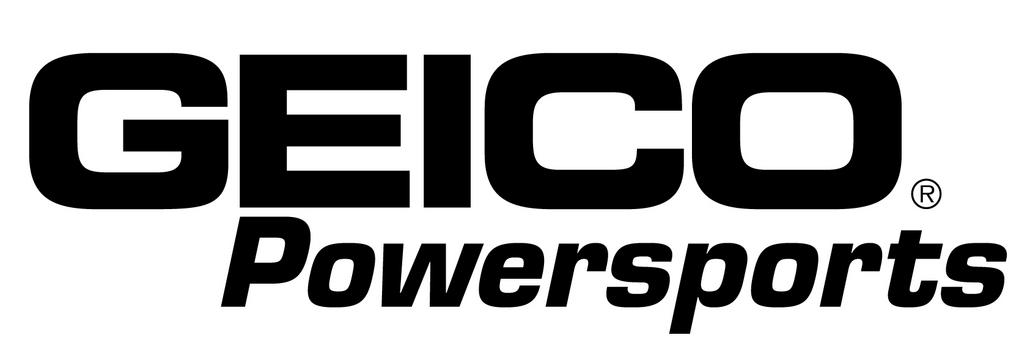Geico: (32, 47, 923, 212)
